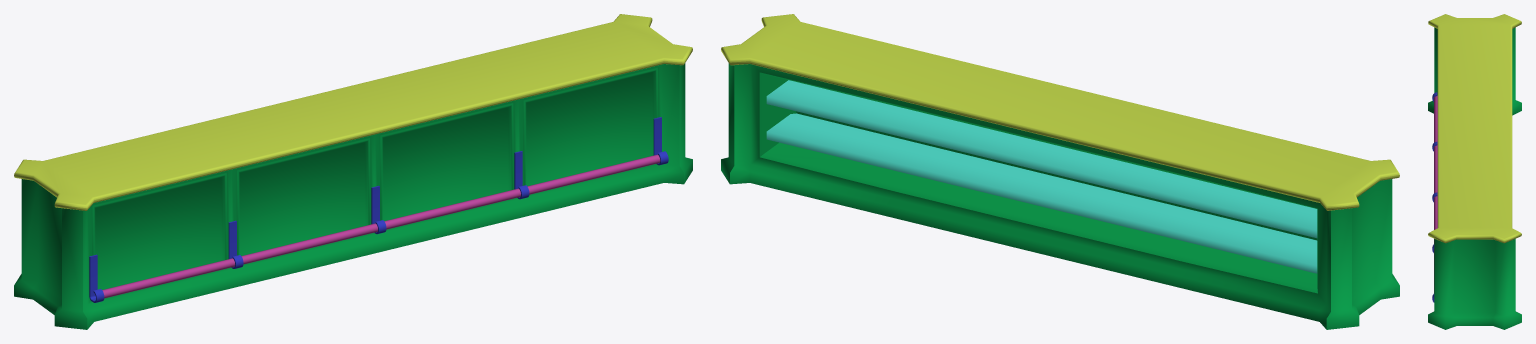
File: Bar.FBX
3 renders of one model, left to right at view 1: azimuth 30°, elevation 25°; view 2: azimuth 150°, elevation 25°; view 3: azimuth 270°, elevation 25°, orthographic. The views are drawn at different scales.
Visible parts, largest first — view 1: BarComplete_LP; view 2: BarComplete_LP; view 3: BarComplete_LP.
Part boxes in pixels (box(x1,y1,x2,y2)): BarComplete_LP: box(14, 14, 692, 329); BarComplete_LP: box(721, 14, 1399, 329); BarComplete_LP: box(1428, 14, 1521, 329).
Size of the model in its own units: 848 by 158 by 148.
